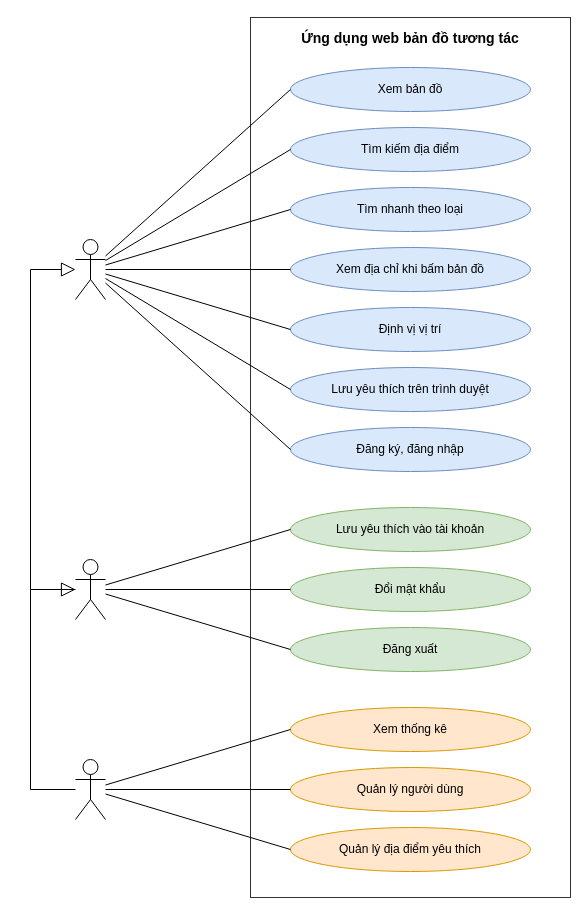
This 588x915 diagram has some shape labels left out. The shapes that lost their labels are listed below. From the top down, each one's centre as x and y in pixels, then its label:
At point (90, 269): "Khách".
At point (90, 589): "Người dùng".
At point (90, 789): "Quản trị viên".
